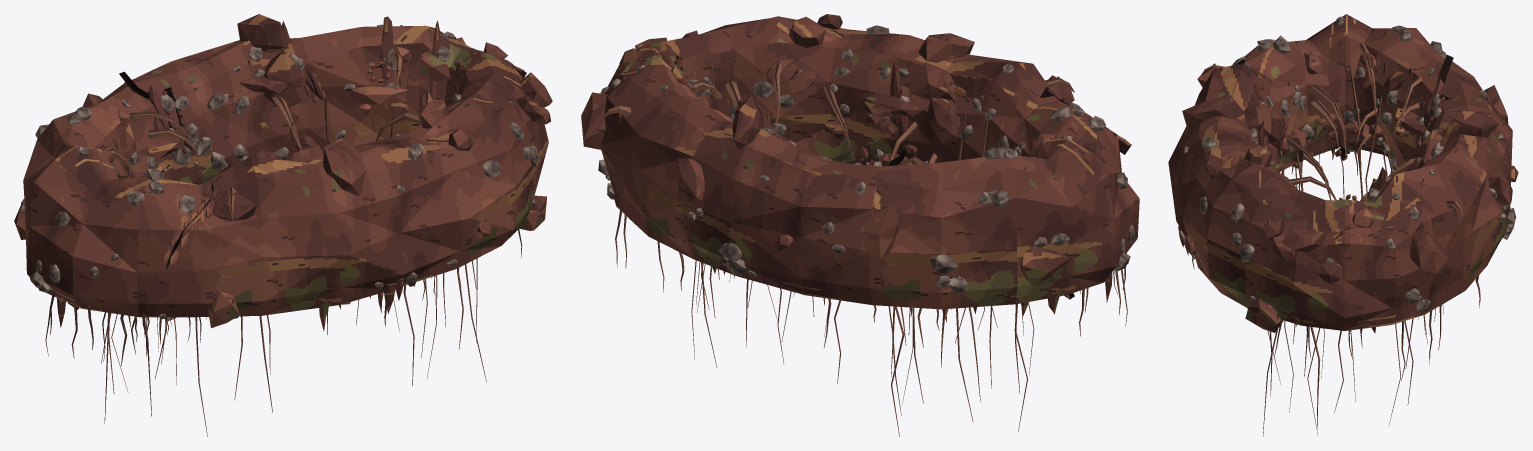
File: SM_AN10_VentCollar.fbx
3 views of the same model, side by side, from view 1: azimuth 30°, elevation 25°; view 2: azimuth 150°, elevation 25°; view 3: azimuth 270°, elevation 25° (orthographic). The views are drawn at different scales.
Parts seen in each view (by area): view 1: AN10a_Earth, AN10a_Props, AN10a_Root; view 2: AN10a_Earth, AN10a_Props, AN10a_Root; view 3: AN10a_Earth, AN10a_Root, AN10a_Props.
Part boxes in pixels (x1,y1,x2,y2): AN10a_Earth: [14, 14, 552, 330]; AN10a_Props: [21, 24, 537, 321]; AN10a_Root: [45, 25, 522, 436]; AN10a_Earth: [581, 14, 1139, 322]; AN10a_Props: [598, 25, 1135, 298]; AN10a_Root: [602, 46, 1127, 436]; AN10a_Earth: [1168, 14, 1518, 333]; AN10a_Root: [1192, 43, 1480, 436]; AN10a_Props: [1180, 16, 1515, 313].
Bounding box in the file's own units: 4.09 × 2.44 × 2.72.
